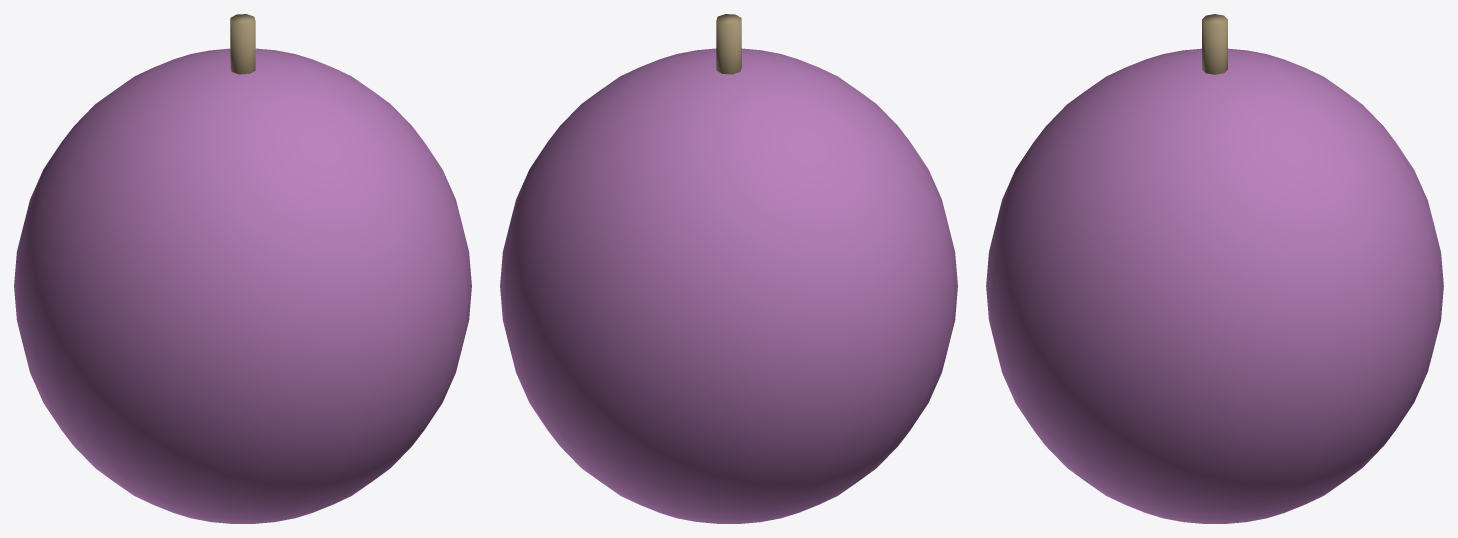
File: Plum.glb
3 views of the same model, side by side, from view 1: azimuth 30°, elevation 25°; view 2: azimuth 150°, elevation 25°; view 3: azimuth 270°, elevation 25° (orthographic).
Visible parts, largest first — view 1: Plum; view 2: Plum; view 3: Plum.
Part boxes in pixels (x1,y1,x2,y2): Plum: [14, 14, 471, 523]; Plum: [500, 14, 957, 523]; Plum: [986, 14, 1443, 523].
Bounding box in the file's own units: 0.8354 × 0.981 × 0.84.
